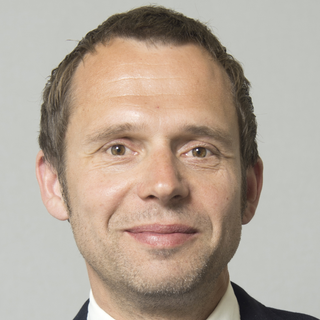eye: (175, 140, 222, 164), (96, 139, 142, 163)
